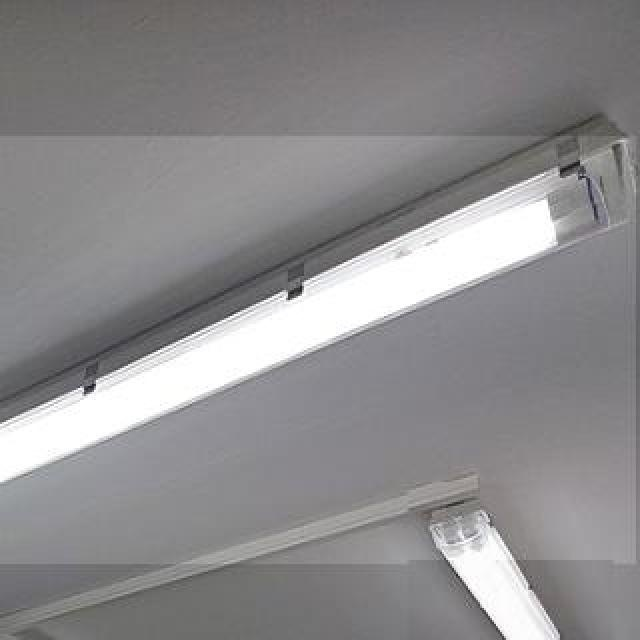fluorescent tube: (0, 136, 628, 572), (342, 470, 630, 640), (0, 630, 208, 640)
